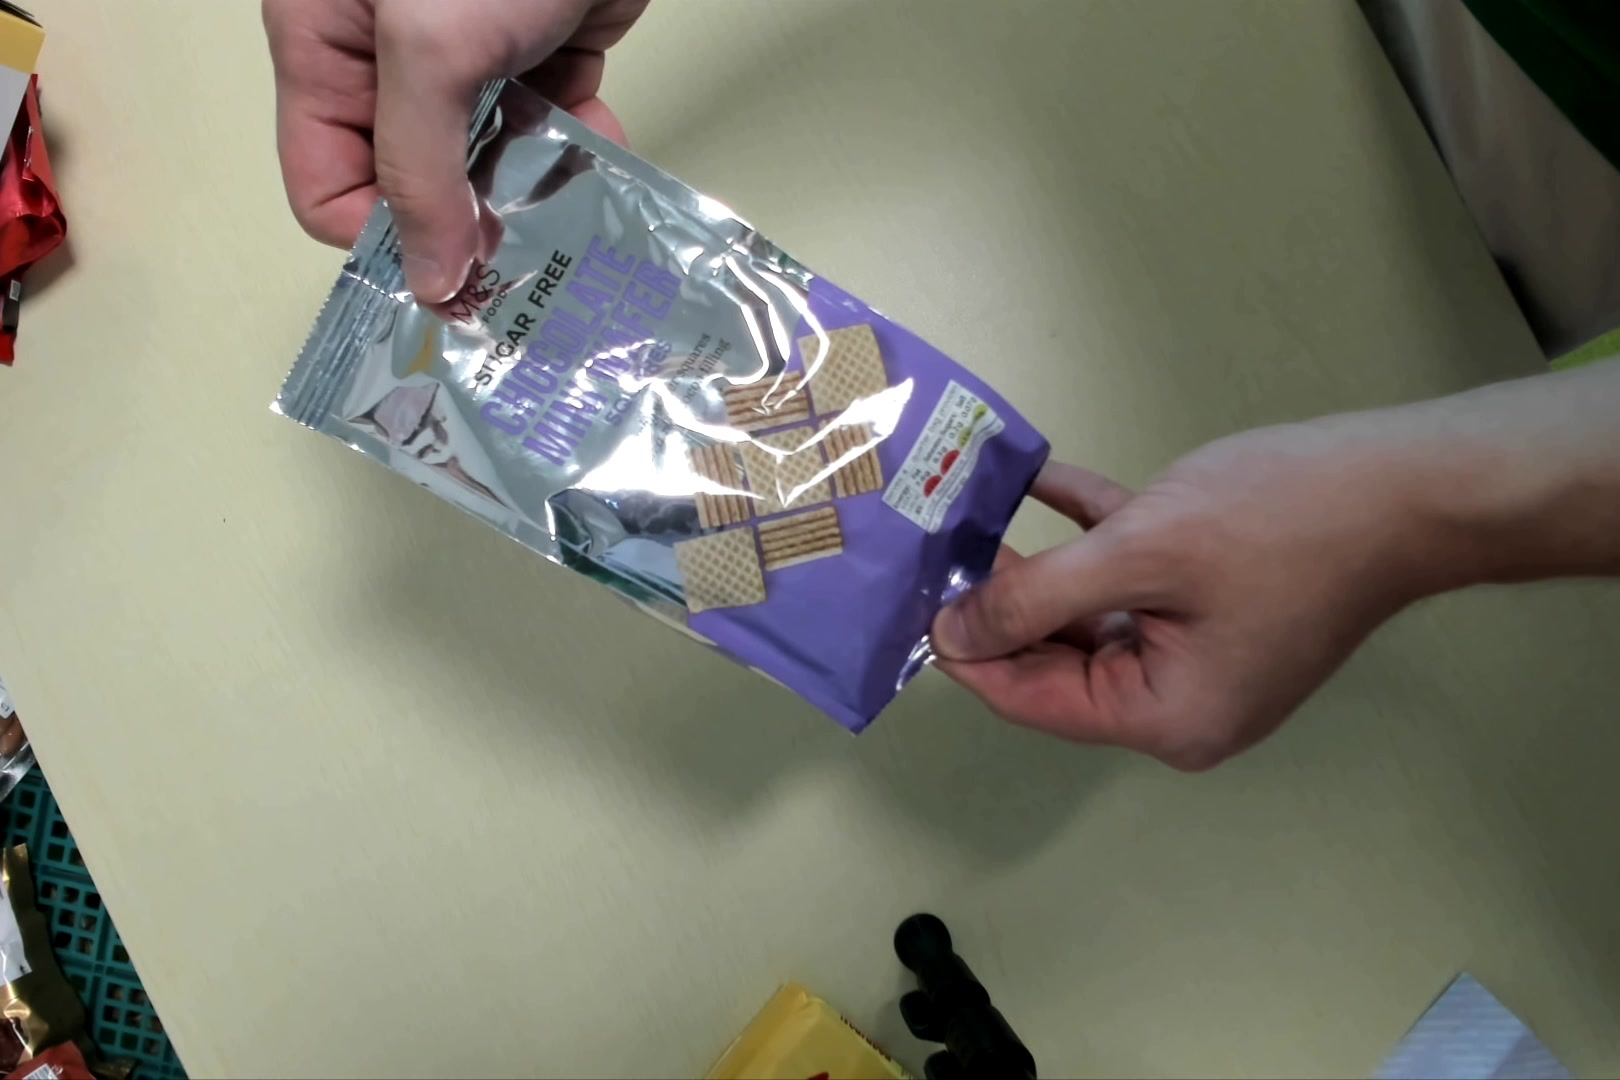SweetsChocolatesOthers_100-199g_NonHalal_NonHealthy: (278, 75, 1049, 742)
